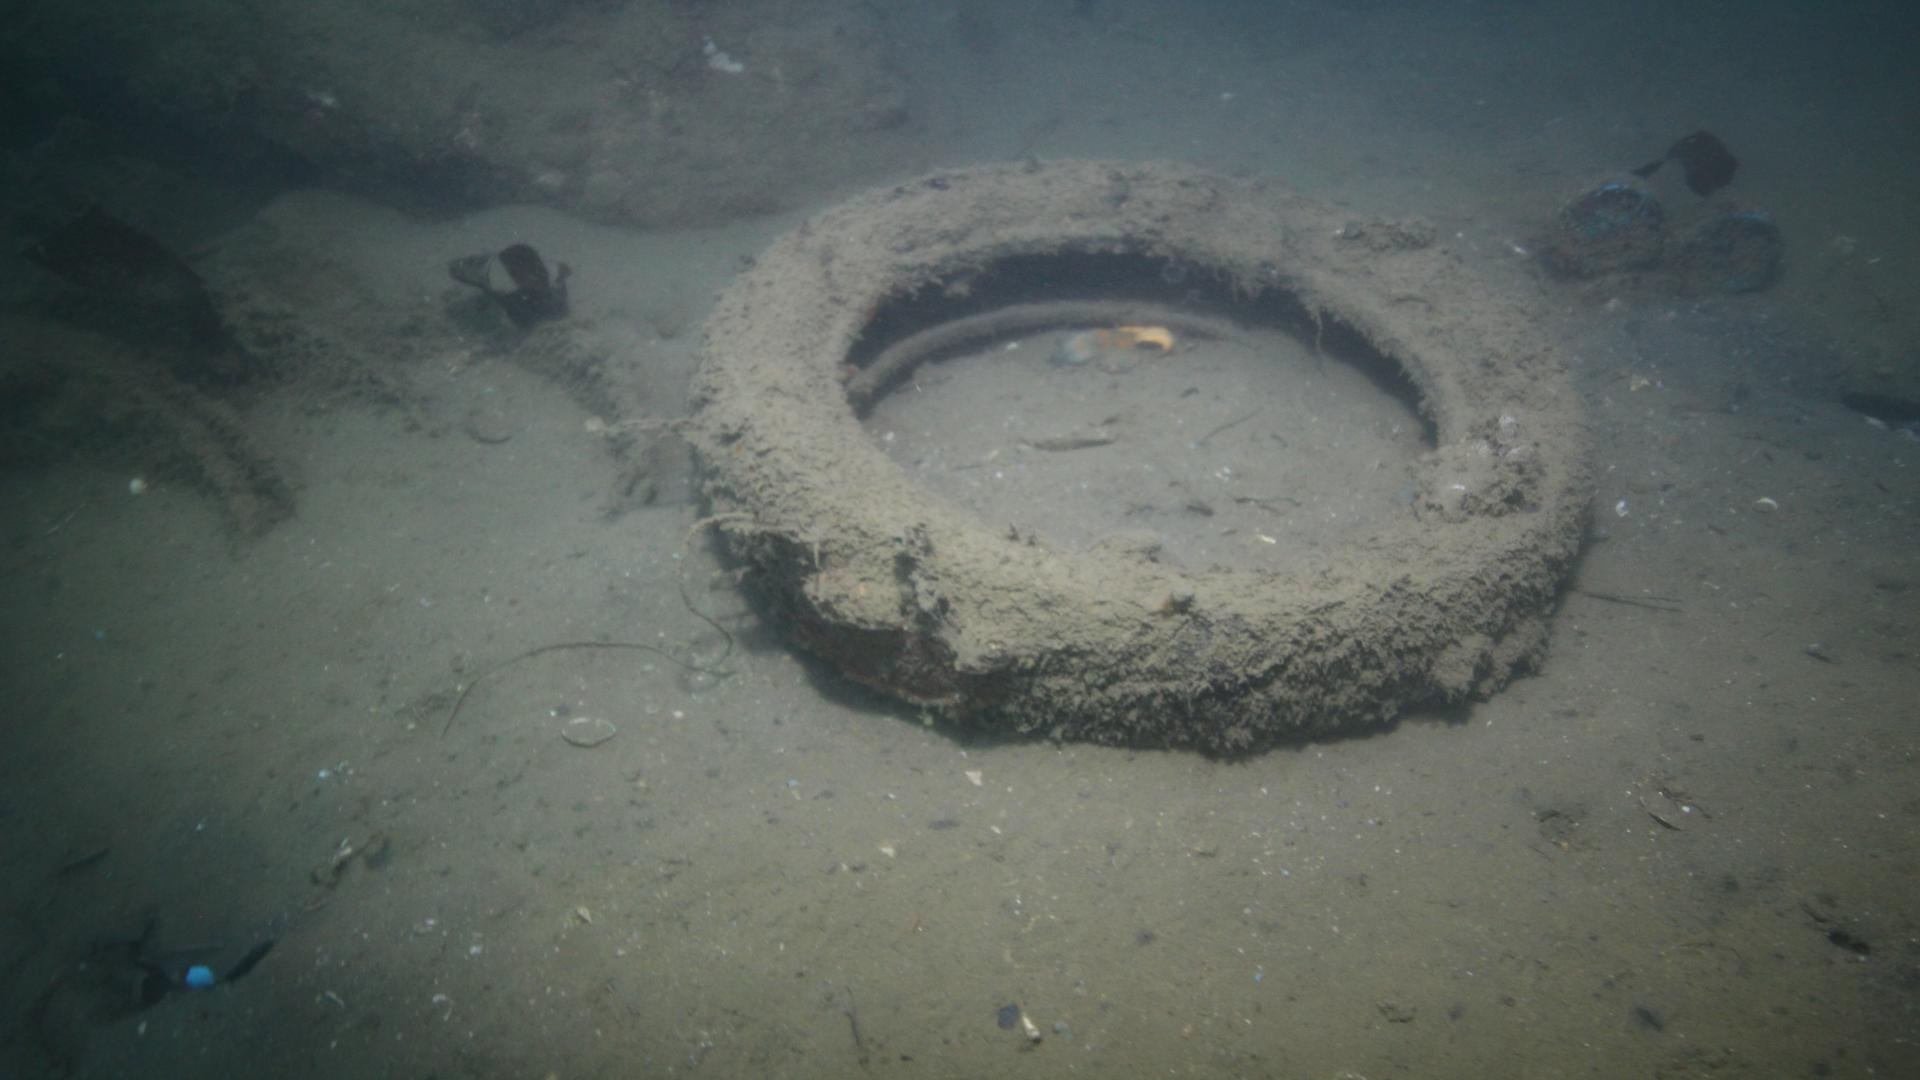tire: (684, 154, 1592, 745)
